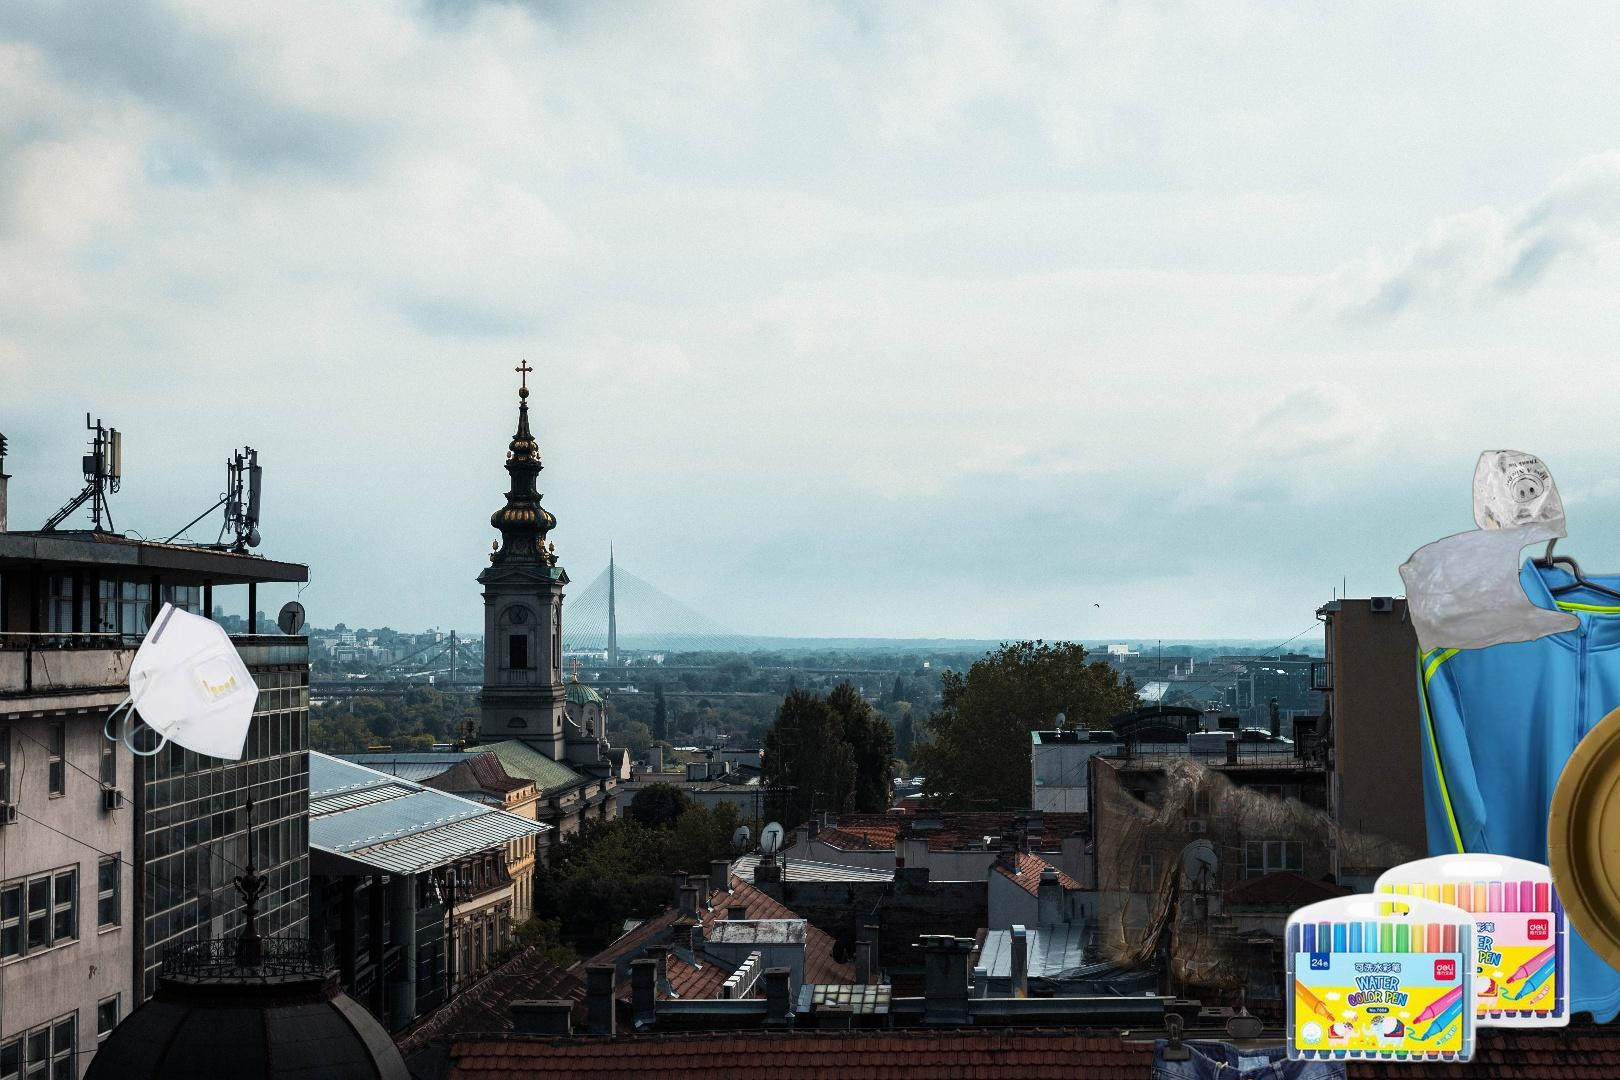clothes: (1411, 532, 1620, 1031), (1072, 987, 1374, 1080)
paper: (1542, 675, 1620, 1003)
penholder: (1279, 850, 1573, 1070)
plastic-bag: (1396, 447, 1581, 657)
trash: (100, 599, 262, 763)
trashbox-cardboard: (1035, 752, 1534, 1080)
